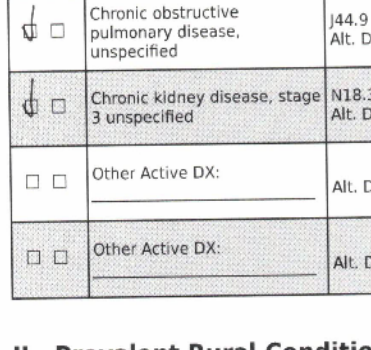checked: (16, 76, 45, 124), (17, 2, 43, 46)
